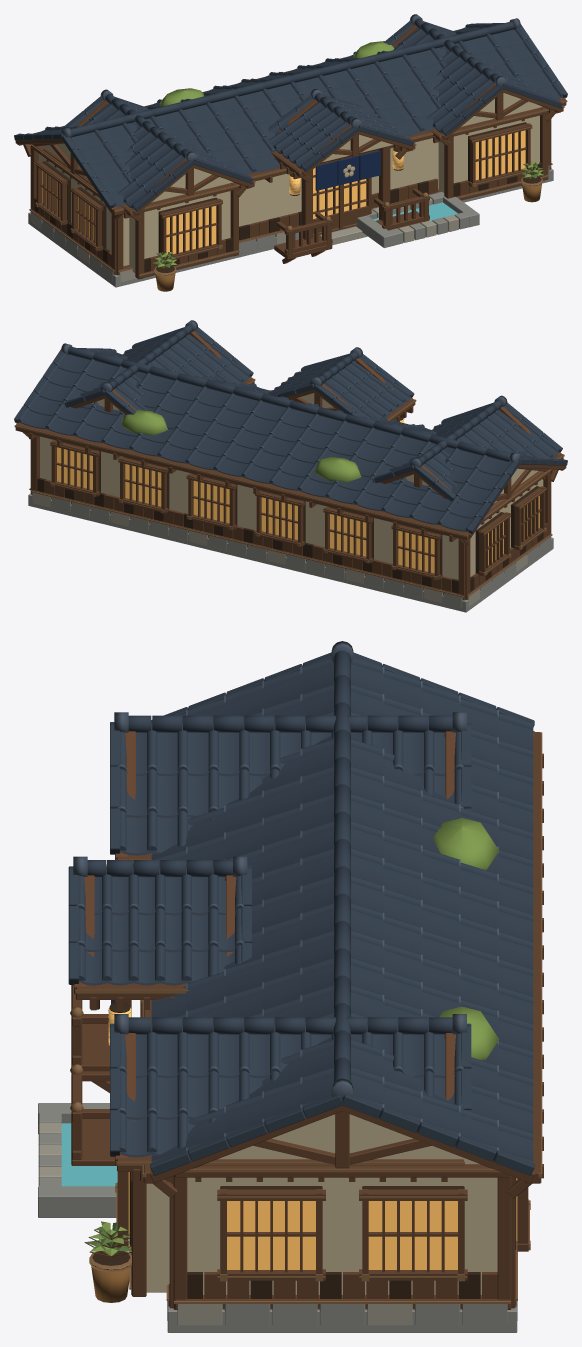
The picture shows the model from 3 angles, top to bottom: view 1: azimuth 30°, elevation 25°; view 2: azimuth 150°, elevation 25°; view 3: azimuth 270°, elevation 25°; orthographic projection. The views are drawn at different scales.
Parts seen in each view (by area): view 1: compact_onsen_1_geometry; view 2: compact_onsen_1_geometry; view 3: compact_onsen_1_geometry.
Boxes of the visible parts, x1=… form: compact_onsen_1_geometry: x1=14, y1=14, x2=567, y2=291; compact_onsen_1_geometry: x1=14, y1=320, x2=567, y2=612; compact_onsen_1_geometry: x1=38, y1=641, x2=543, y2=1332.
Bounding box in the file's own units: 2.13 × 0.6004 × 1.02.
